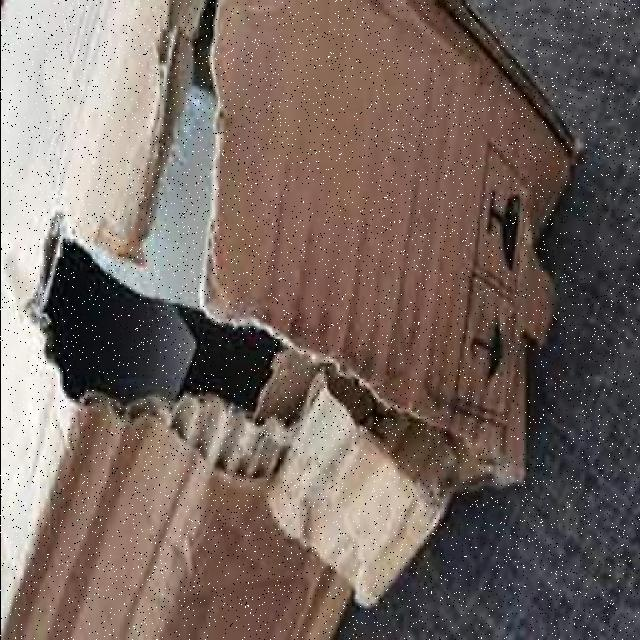defect: (1, 1, 577, 638)
